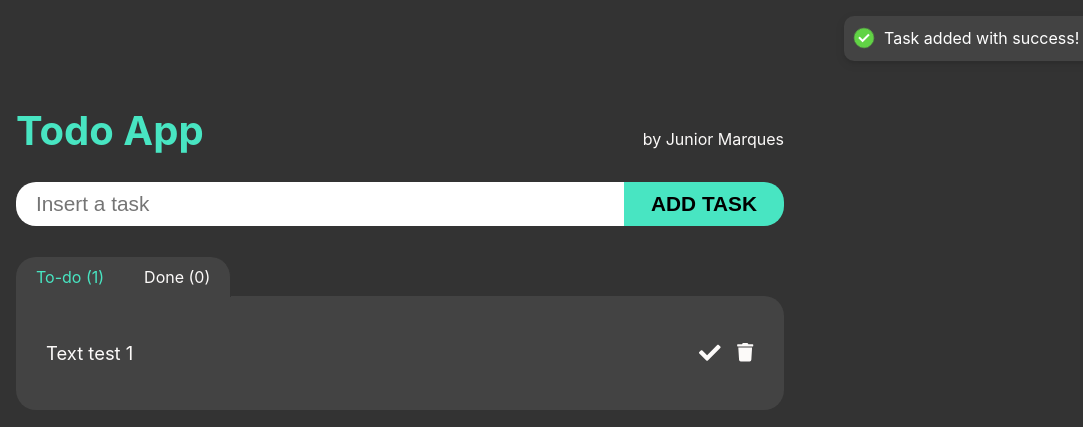
Test: Test App › Should next step task correctly
Click the icon with class "icon-check": (710, 353) [699,342,721,364]
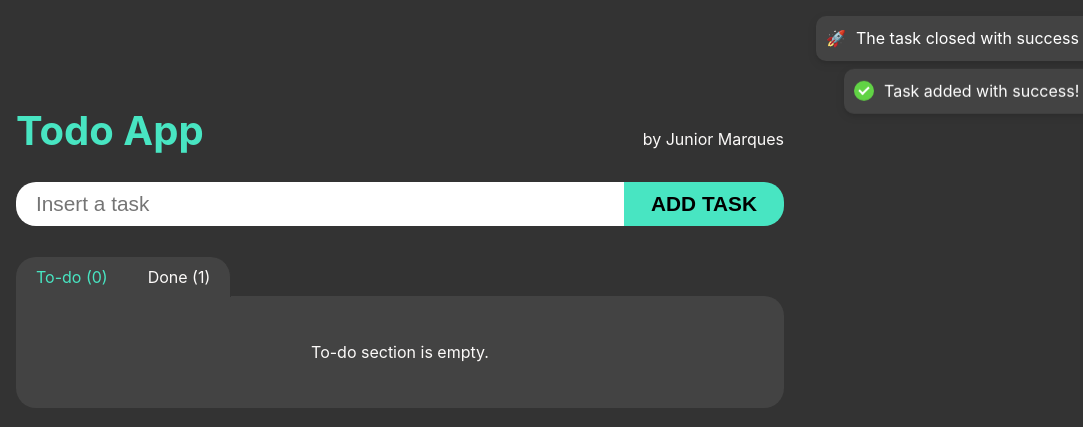
Now the tab "To-do (0)" is shown, box [16,257,128,297]
Now the text "To-do section is empty." is shown, box [311,342,489,362]
Click the tab "Done (1)": (180, 277) [128,257,232,297]
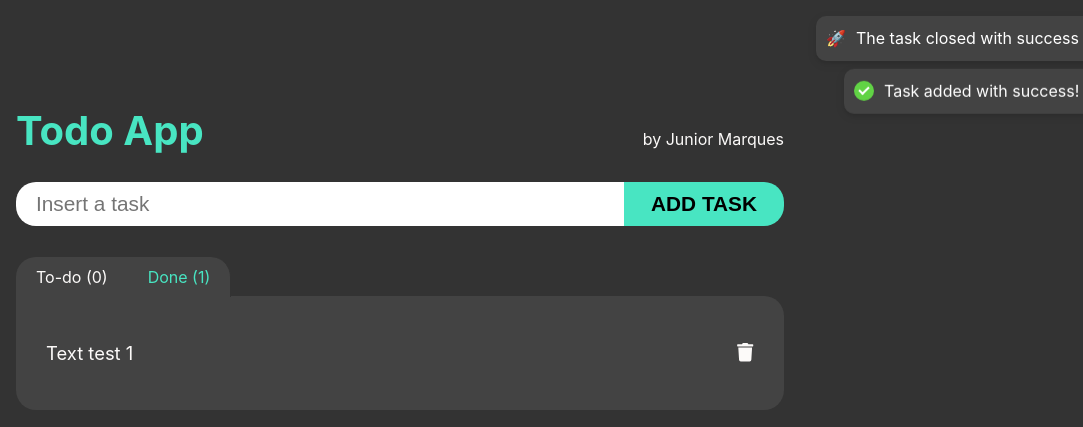
Now the list item "Text test 1" is shown, box [46,342,754,364]
